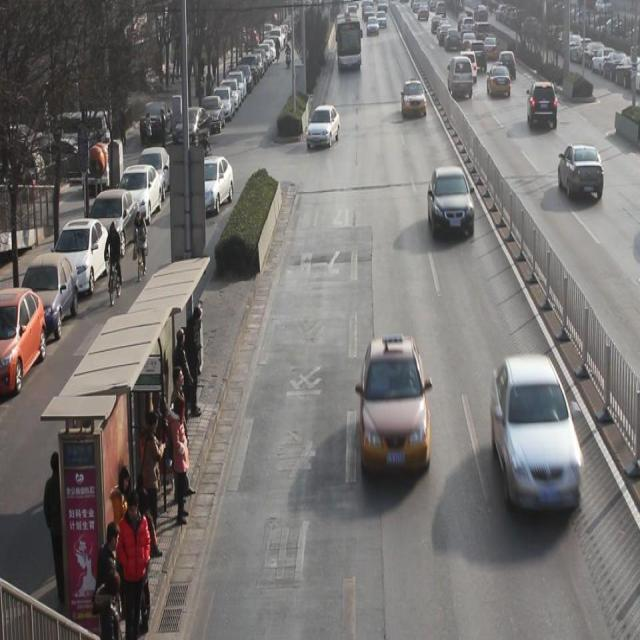car: (492, 356, 584, 514), (364, 336, 429, 470), (429, 167, 476, 241), (186, 152, 234, 217), (559, 144, 605, 202), (306, 104, 341, 147), (528, 82, 558, 132), (403, 78, 427, 121), (488, 62, 512, 99), (462, 50, 478, 84), (500, 51, 517, 82), (472, 42, 488, 72), (445, 29, 461, 52), (486, 36, 501, 60), (460, 33, 477, 51), (477, 24, 492, 42), (476, 1, 488, 23), (439, 24, 452, 44), (368, 16, 380, 37), (461, 18, 476, 33), (378, 12, 387, 29)
truck: (448, 56, 474, 100)
van: (335, 12, 364, 73)
